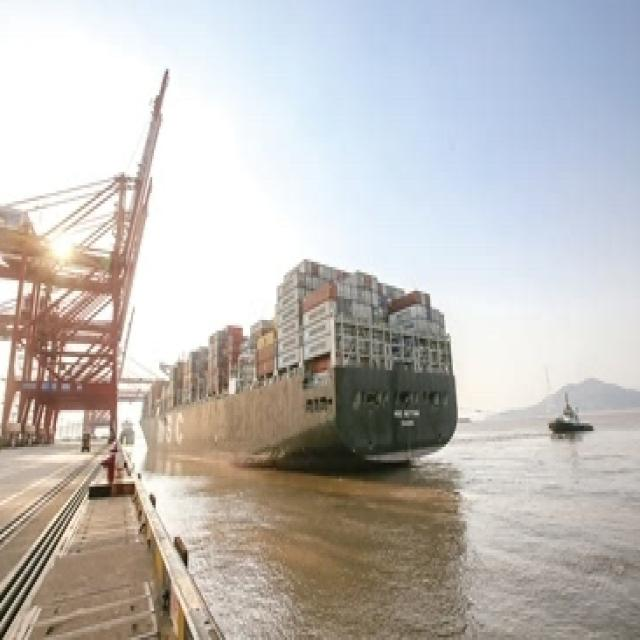cargoship: (138, 257, 456, 468)
houseboat: (550, 394, 594, 434)
